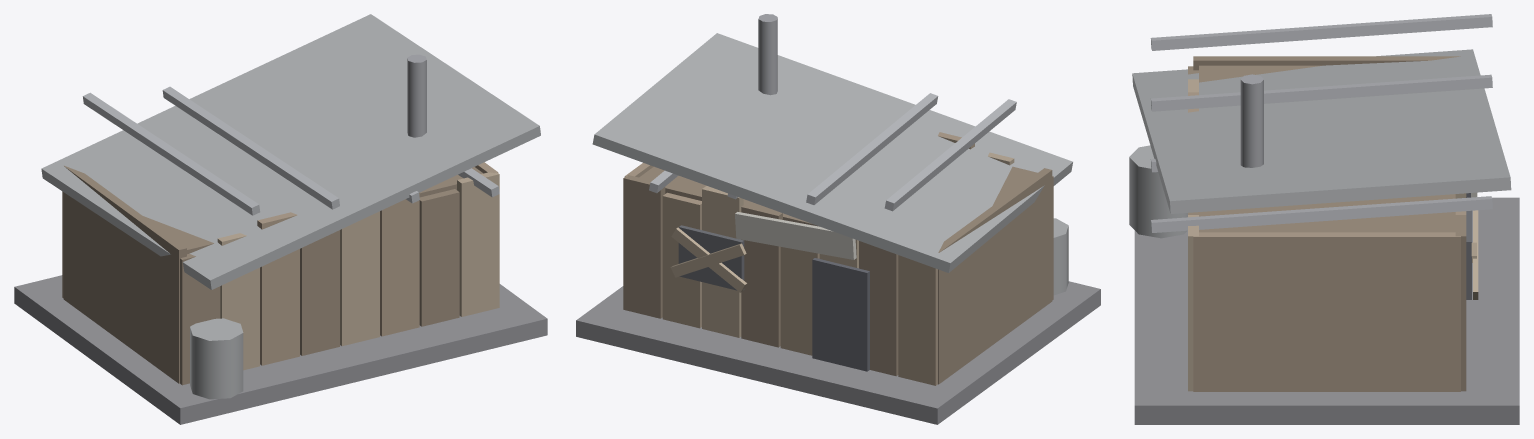
Rendered from kind-legacy-shack.glb.
3 views of the same model, side by side, from view 1: azimuth 30°, elevation 25°; view 2: azimuth 150°, elevation 25°; view 3: azimuth 270°, elevation 25° (orthographic). The views are drawn at different scales.
Visible parts, largest first — view 1: kind-legacy-shack; view 2: kind-legacy-shack; view 3: kind-legacy-shack.
Part boxes in pixels (x1=…): kind-legacy-shack: x1=14, y1=14, x2=547, y2=424; kind-legacy-shack: x1=576, y1=14, x2=1100, y2=424; kind-legacy-shack: x1=1129, y1=14, x2=1519, y2=424.
Size of the model in its own units: 0.9427 by 0.62 by 0.73.
